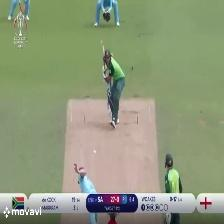ball: (90, 147, 103, 158)
batsman: (96, 36, 130, 131)
